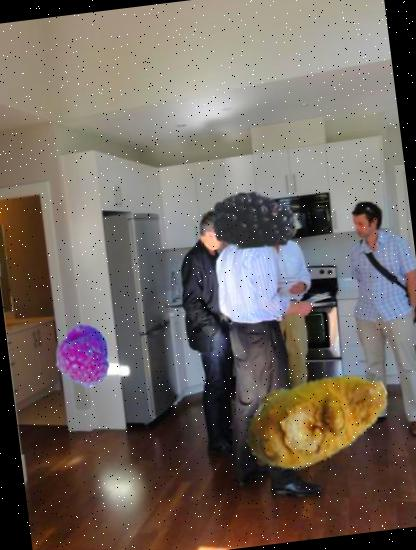Ginger: (233, 334, 400, 500)
Mulberry: (196, 159, 301, 264)
Raspberry: (46, 320, 116, 392)
